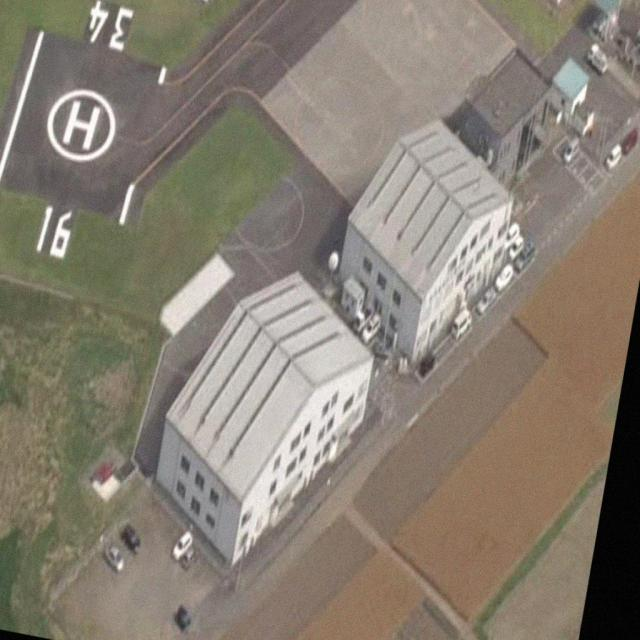helipad: (42, 85, 117, 163)
